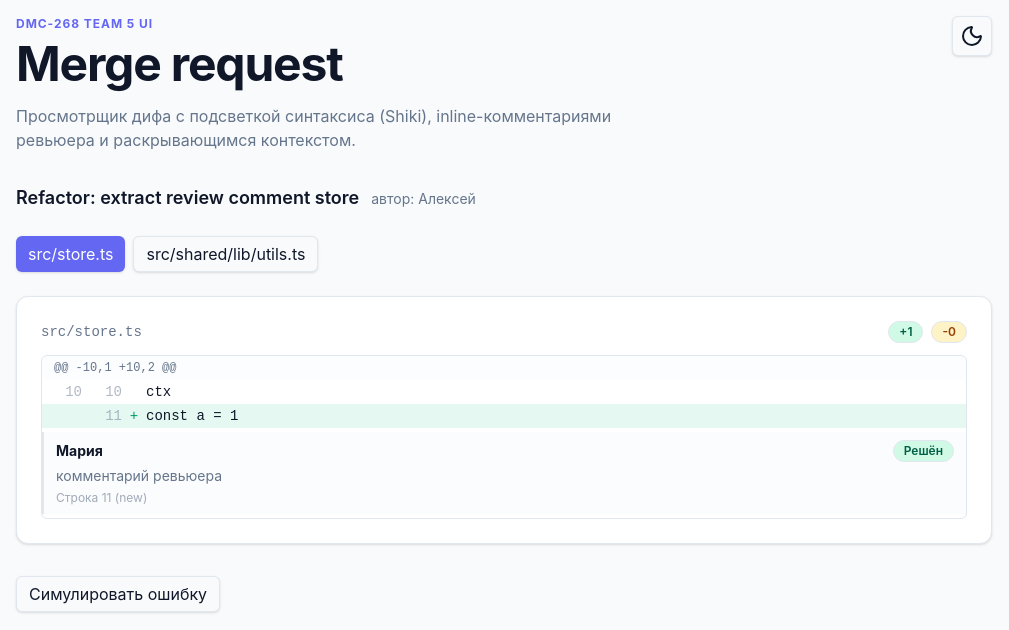
Test case: App (MergeRequestPage) › switches between files
The width and height of the screenshot is (1009, 630).
Expected: the text "const a = 1" is shown, top-left (146, 408), bottom-right (238, 424)
Click the button "src/shared/lib/utils.ts".
click(226, 254)  # box top-left (134, 236), bottom-right (318, 272)
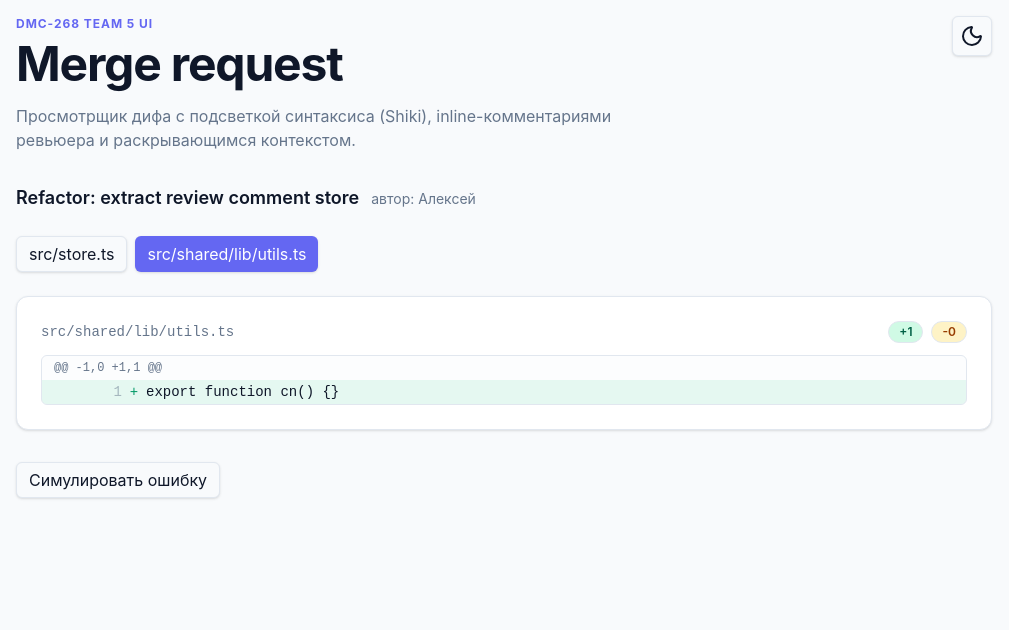
Expected: the text "export function cn() {}" is shown, top-left (146, 384), bottom-right (339, 400)
